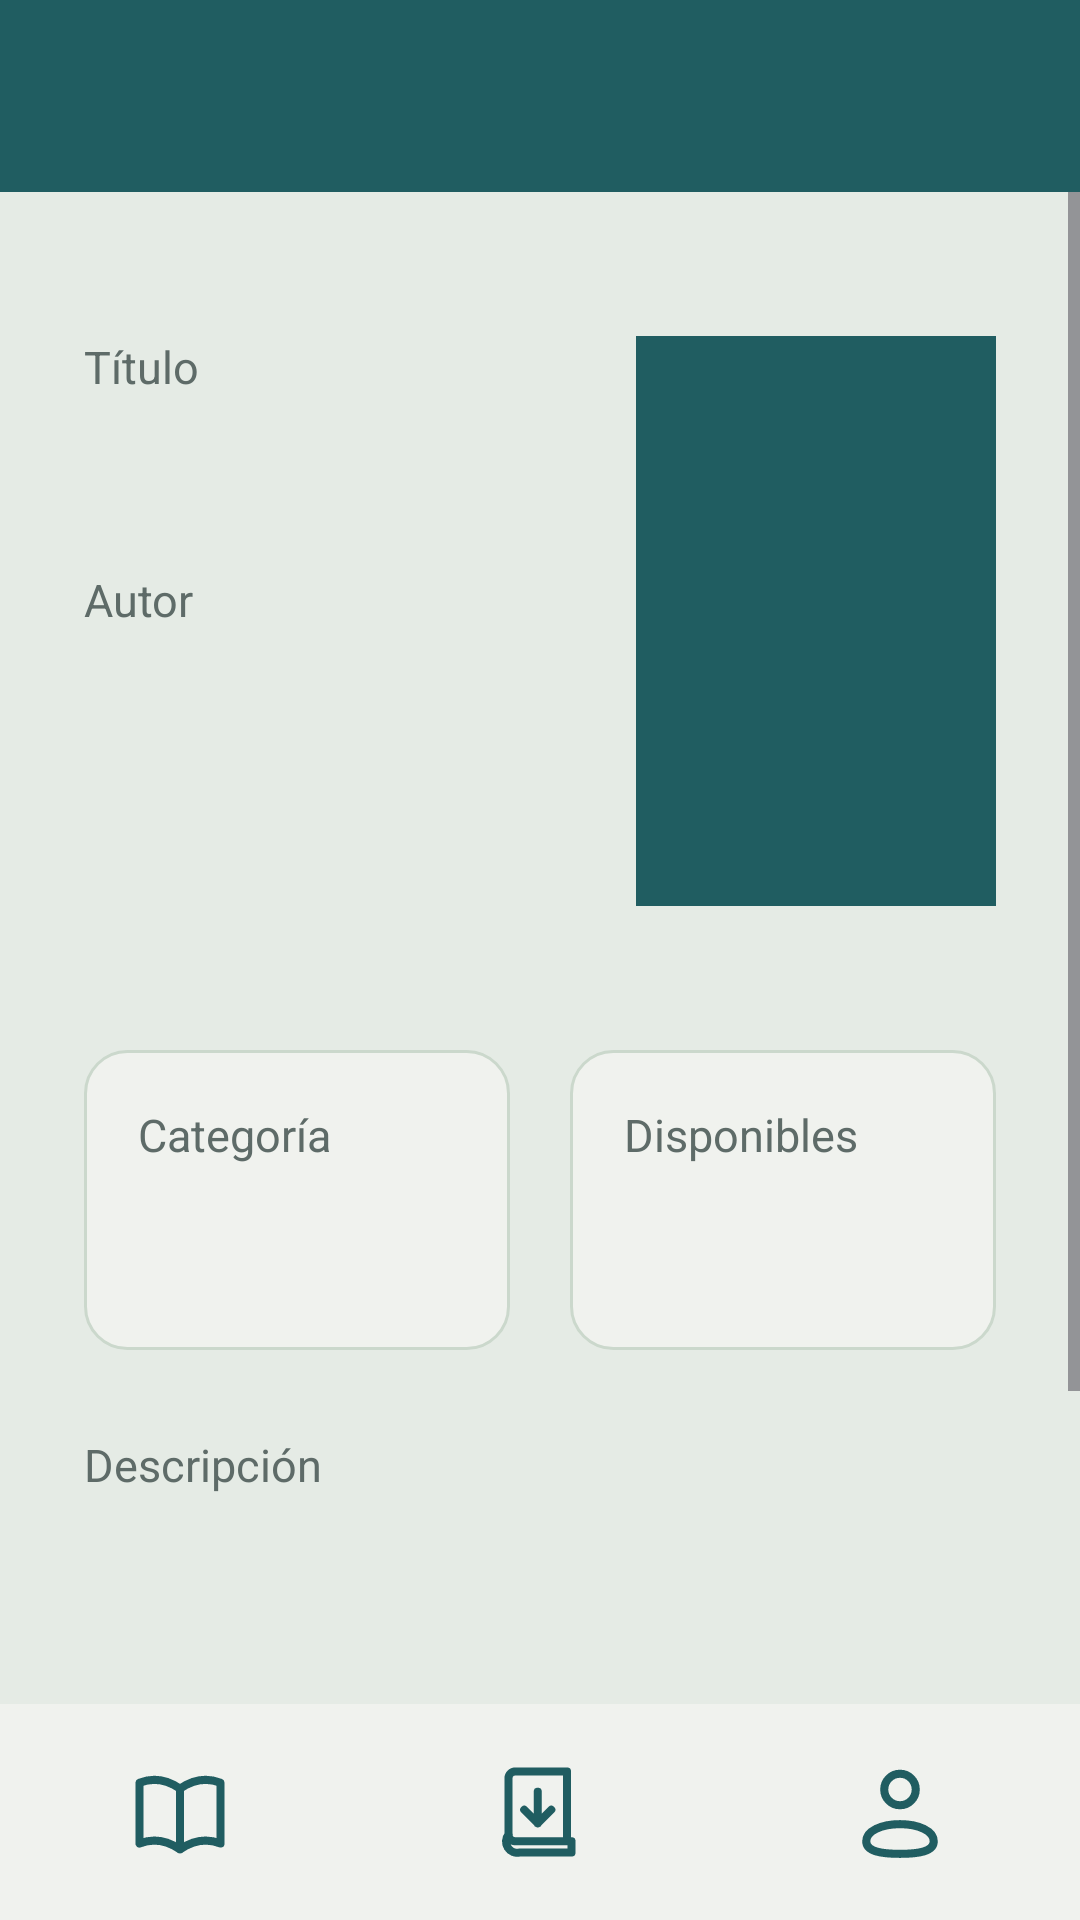

Named icons in this screenshot (1080*1920) and their centers, (x=x, y=y):
perfil: (x=900, y=1813)
prestamos: (x=539, y=1812)
